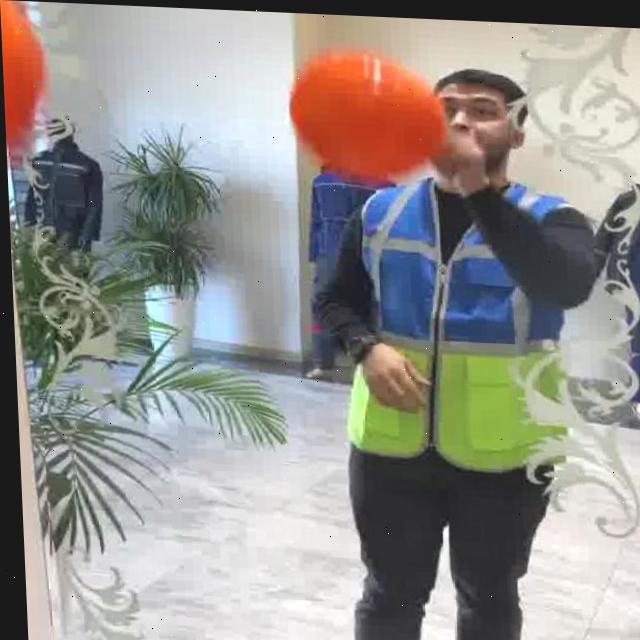No-Glove: (355, 337, 429, 409)
Safety-Vest: (333, 167, 585, 472)
